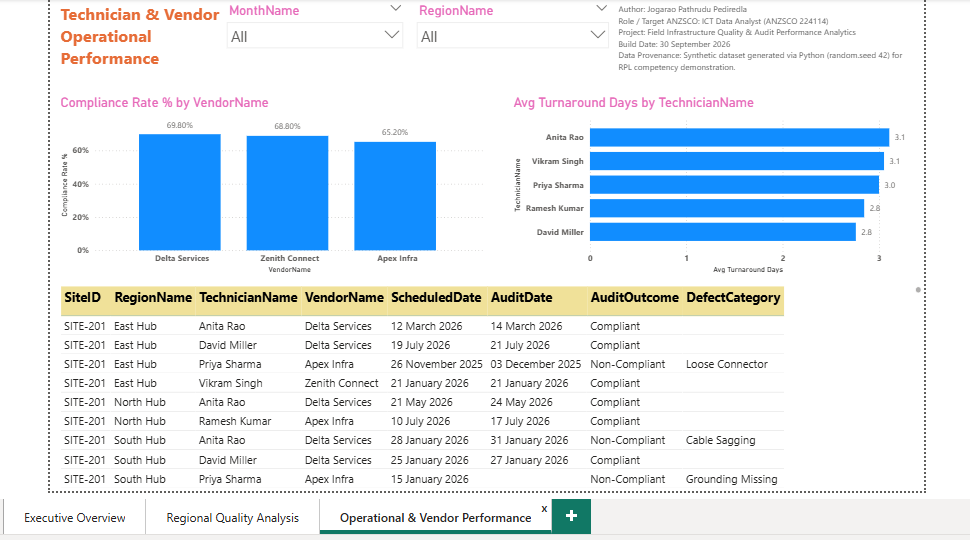

The dashboard page shown, as its layout file describes it:
{"tool":"powerbi","page":{"name":"Operational & Vendor Performance","canvas":[1280,720],"ordinal":2},"visuals":[{"type":"textbox","box":[10.2,0,279.5,140.5],"z":0},{"type":"slicer","fields":{"Values":["dim_technicians.VendorName"]},"box":[289.8,0,279.5,165.4],"z":1000},{"type":"slicer","fields":{"Values":["fact_audits.AuditOutcome"]},"box":[569.3,0,279.5,140.5],"z":2000},{"type":"clusteredColumnChart","fields":{"Category":["dim_technicians.VendorName"],"Y":["_Measures.Compliance Rate %"]},"box":[10.2,140.5,629.3,266.3],"z":3000},{"type":"clusteredBarChart","fields":{"Category":["dim_technicians.TechnicianName"],"Y":["_Measures.Avg Turnaround Days"]},"box":[673.2,140.5,594.1,266.3],"z":4000},{"type":"tableEx","fields":{"Values":["fact_audits.SiteID","dim_regions.RegionName","dim_technicians.TechnicianName","dim_technicians.VendorName","fact_audits.ScheduledDate","fact_audits.AuditDate","fact_audits.AuditOutcome","fact_audits.DefectCategory"]},"box":[10.2,415.6,1270.2,304.4],"z":5000},{"type":"slicer","fields":{"Values":["dim_regions.RegionName"]},"box":[526.8,0,301.5,140.5],"z":5001},{"type":"slicer","fields":{"Values":["Dim_Date.MonthName"]},"box":[248.8,0,278,140.5],"z":5002},{"type":"textbox","box":[826.8,0,434.6,125.9],"z":5003}]}

Visuals, with their boxes on the page's 1280x720 design canvas (x1, y1, x2, y2). These are canvas units, not pixel positions in the 970x540 screenshot, which may show the page scaled, cropped or inside an application window:
textbox: <region>10, 0, 290, 140</region>
slicer - dim_technicians.VendorName: <region>290, 0, 569, 165</region>
slicer - fact_audits.AuditOutcome: <region>569, 0, 849, 140</region>
clusteredColumnChart - dim_technicians.VendorName x _Measures.Compliance Rate %: <region>10, 140, 640, 407</region>
clusteredBarChart - dim_technicians.TechnicianName x _Measures.Avg Turnaround Days: <region>673, 140, 1267, 407</region>
tableEx - fact_audits.SiteID x dim_regions.RegionName: <region>10, 416, 1280, 720</region>
slicer - dim_regions.RegionName: <region>527, 0, 828, 140</region>
slicer - Dim_Date.MonthName: <region>249, 0, 527, 140</region>
textbox: <region>827, 0, 1261, 126</region>
